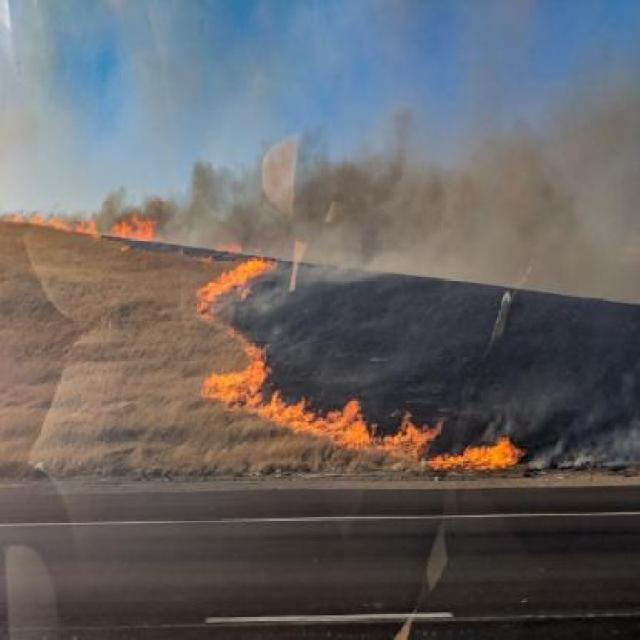Fire: (5, 201, 158, 247), (192, 248, 278, 318), (278, 394, 372, 454), (200, 346, 280, 409), (426, 438, 527, 472), (381, 411, 438, 454)
